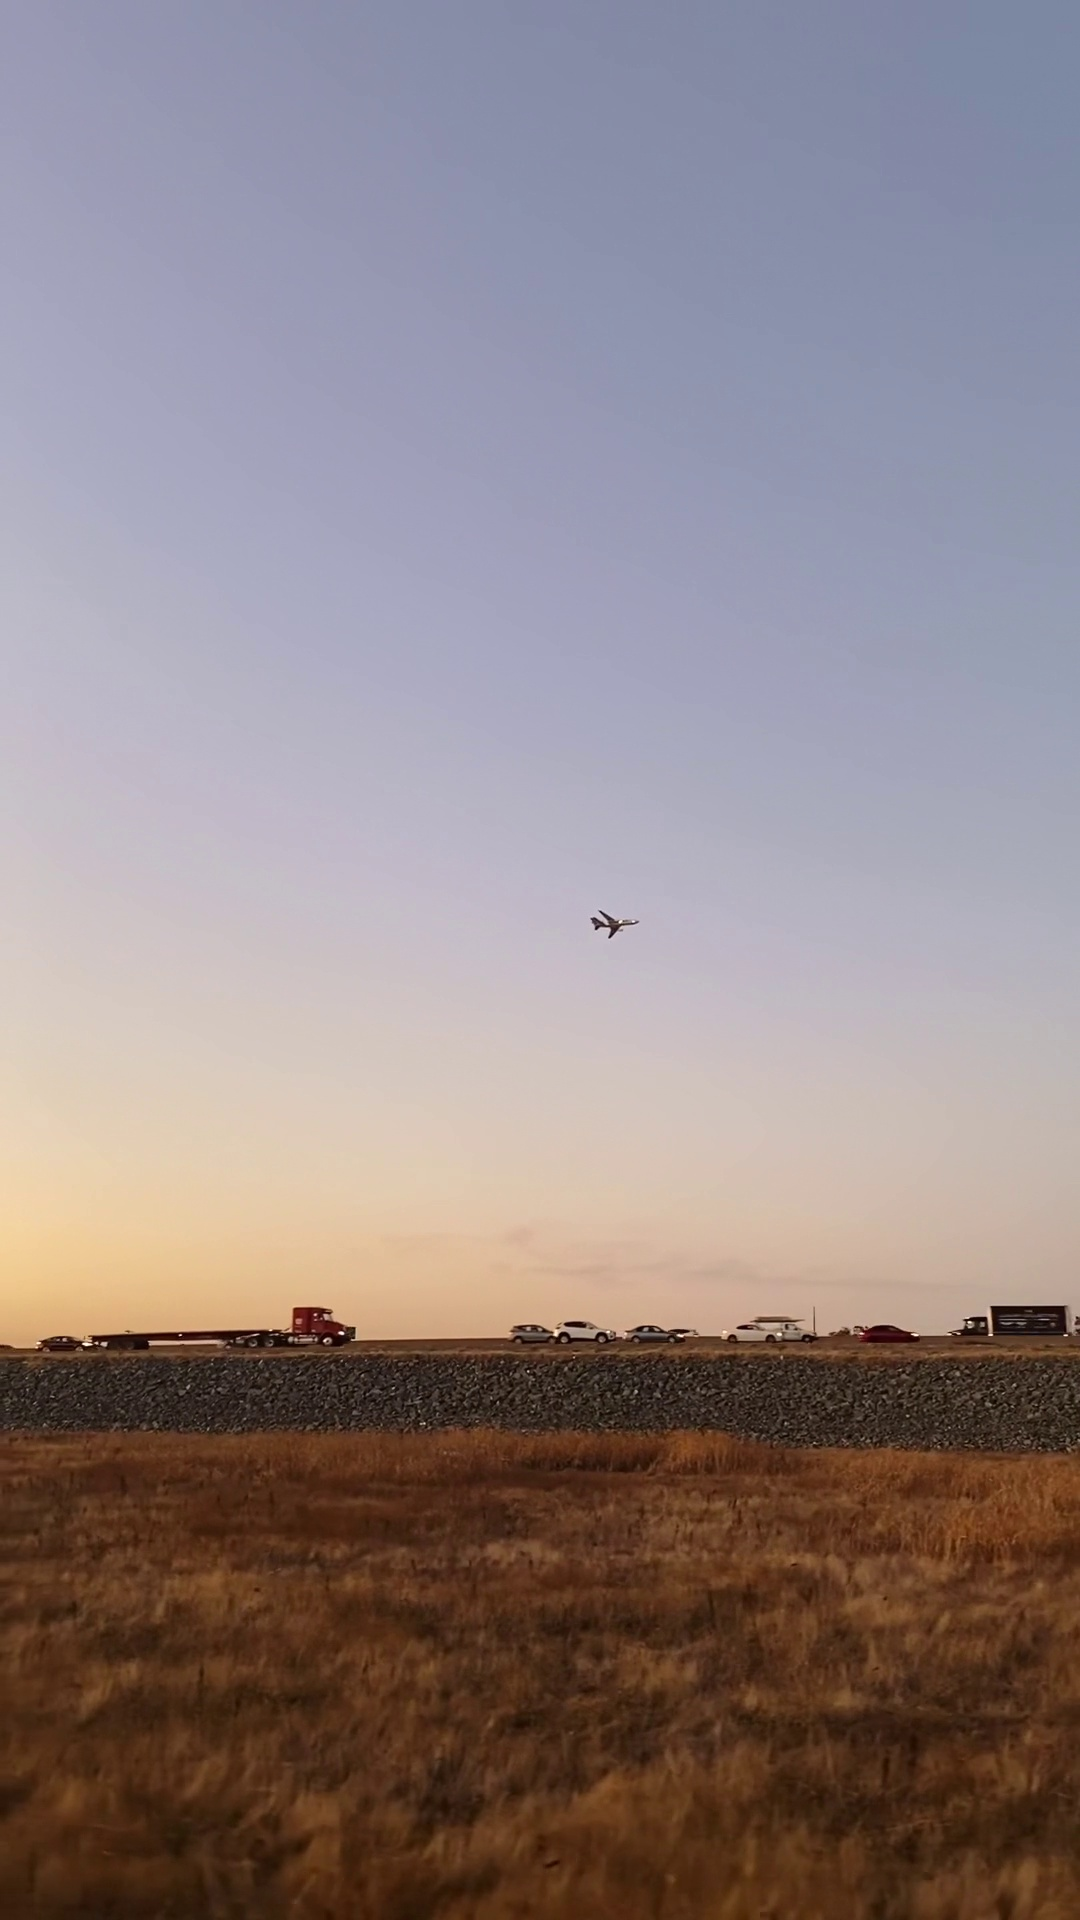plane: (589, 909, 638, 939)
